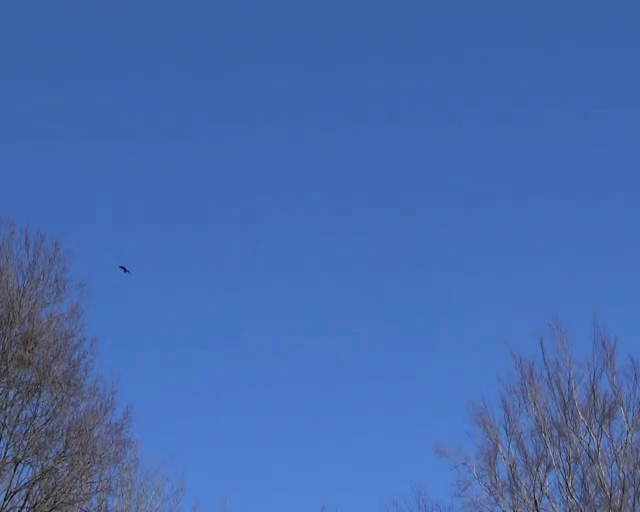BIRD: (119, 265, 130, 274)
